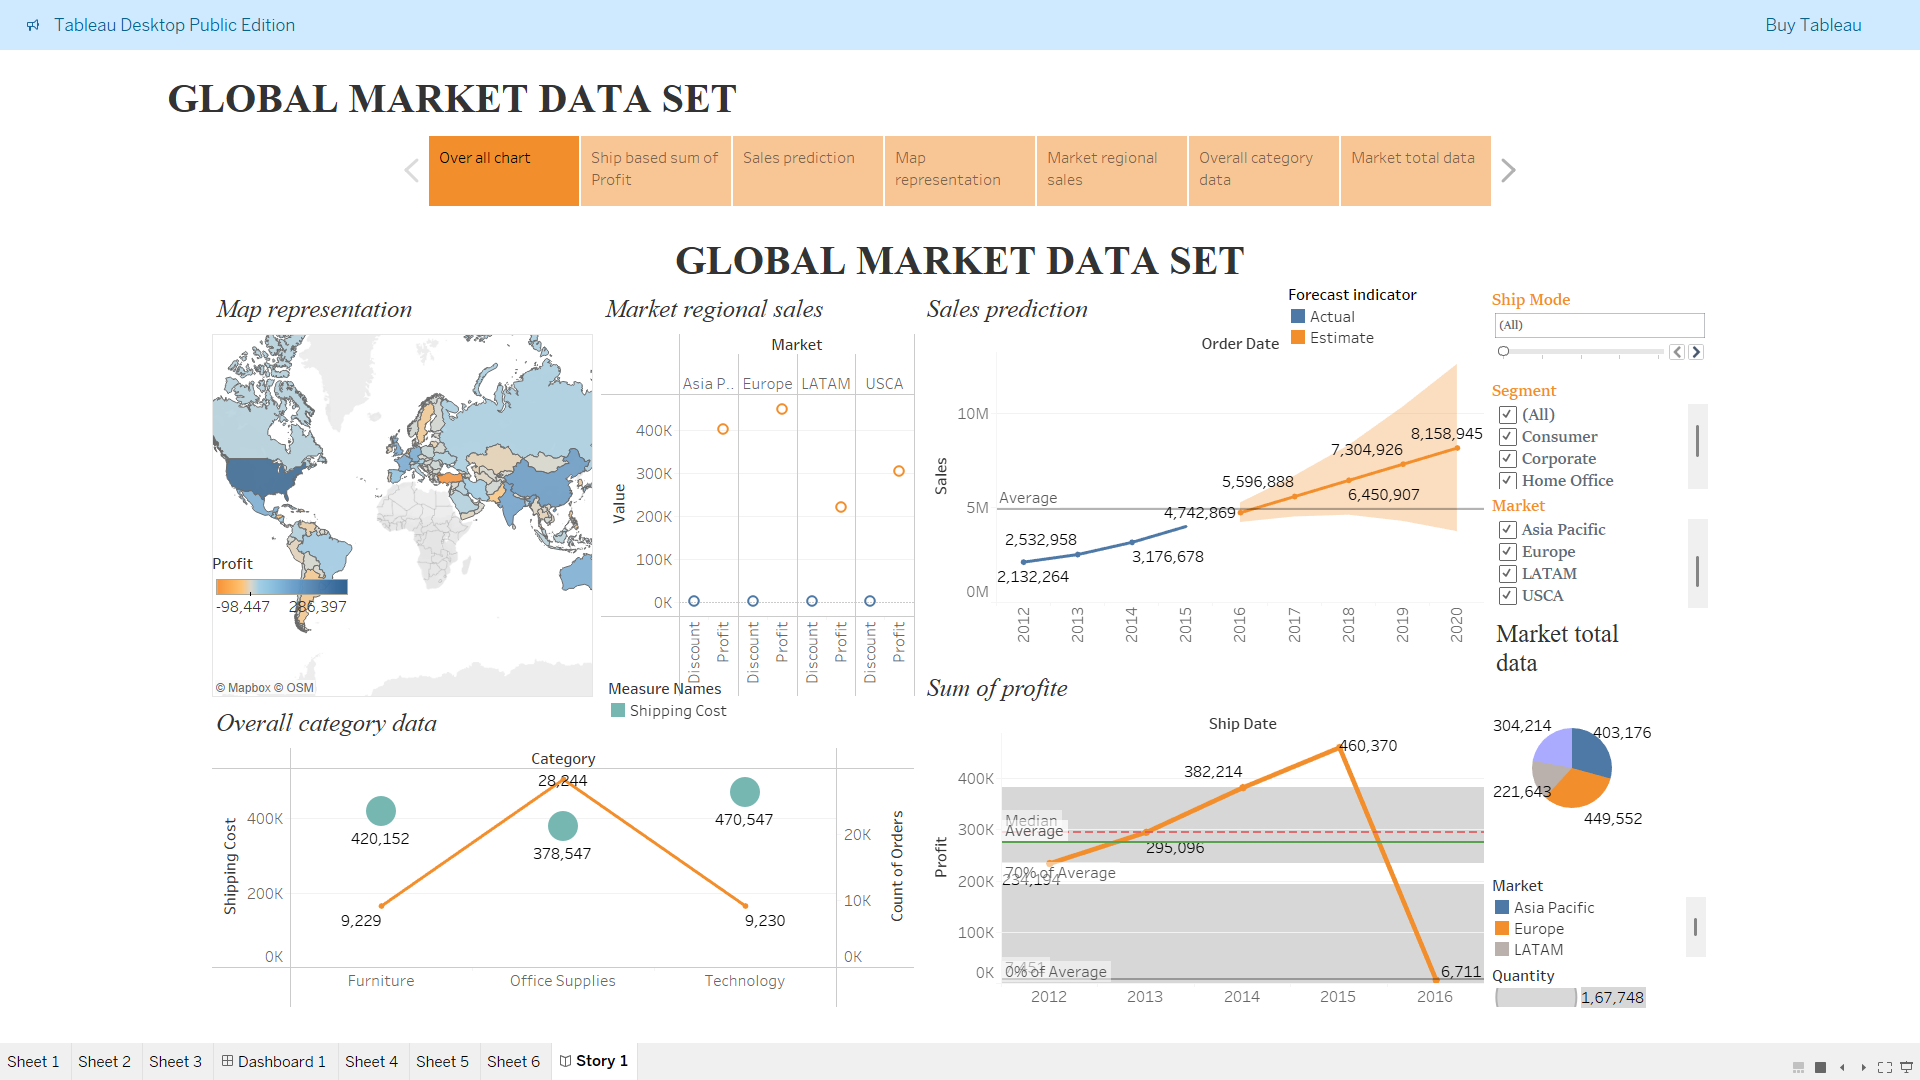

Layout of this report page (visuals, bound fields, positions):
{"tool":"tableau","page":{"name":"Dashboard 1","canvas":[1000,1000],"units":"permille","ordinal":0},"visuals":[{"type":"title","box":[5.3,10,989.5,66.1]},{"type":"legend","title":"Sheet 2","param":"[federated.1nj6qd210zfpyo1dzl5g90oos3fo].[none:Forecast Indicator:nk]","box":[715.8,73.6,88.8,89.8]},{"type":"worksheet","title":"Sheet 3","mark":"Automatic","box":[5.3,76.1,255.6,522.4]},{"type":"worksheet","title":"Sheet 4","mark":"Shape","cols":["Market"],"box":[260.9,76.1,212.2,522.4]},{"type":"worksheet","title":"Sheet 2","mark":"Automatic","rows":["Sales"],"cols":["Order Date"],"box":[473,76.1,374.3,477.6]},{"type":"filter","title":"Sheet 1","param":"[federated.1nj6qd210zfpyo1dzl5g90oos3fo].[none:Ship Mode:nk]","box":[847.4,76.1,147.4,113.5]},{"type":"filter","title":"Sheet 1","param":"[federated.1nj6qd210zfpyo1dzl5g90oos3fo].[none:Segment:nk]","box":[847.4,189.5,147.4,143.4]},{"type":"filter","title":"Sheet 1","param":"[federated.1nj6qd210zfpyo1dzl5g90oos3fo].[none:Market:nk]","box":[847.4,332.9,147.4,148.4]},{"type":"legend","title":"Sheet 3","param":"[federated.1nj6qd210zfpyo1dzl5g90oos3fo].[sum:Profit:qk]","box":[7.9,411.5,92.1,109.7]},{"type":"worksheet","title":"Sheet 6","mark":"Pie","box":[847.4,481.3,147.4,322.9]},{"type":"worksheet","title":"Sheet 1","mark":"Automatic","rows":["Profit"],"cols":["Ship Date"],"box":[473,553.6,374.3,436.4]},{"type":"legend","title":"Sheet 5","param":"[federated.1nj6qd210zfpyo1dzl5g90oos3fo].[:Measure Names]","box":[268.4,569.8,92.1,53.6]},{"type":"worksheet","title":"Sheet 5","mark":"Automatic","rows":["Shipping Cost","Orders_3DD3943F20C242CB870DA2F6CCF628AD"],"cols":["Category"],"box":[5.3,598.5,467.8,391.5]},{"type":"legend","title":"Sheet 6","param":"[federated.1nj6qd210zfpyo1dzl5g90oos3fo].[none:Market:nk]","box":[847.4,804.3,147.4,122.2]},{"type":"legend","title":"Sheet 6","param":"[federated.1nj6qd210zfpyo1dzl5g90oos3fo].[sum:Quantity:qk]","box":[847.4,926.4,147.4,63.6]}]}

Visuals, with their boxes on the dashboard's canvas, which has no fixed pixel size, in thousandths of its width and height (x1, y1, x2, y2). These are canvas units, not pixel positions in the 1920x1080 screenshot, which may show the page scaled, cropped or inside an application window:
title: {"x1": 5, "y1": 10, "x2": 995, "y2": 76}
"Sheet 2" legend: {"x1": 716, "y1": 74, "x2": 805, "y2": 163}
"Sheet 3" worksheet: {"x1": 5, "y1": 76, "x2": 261, "y2": 598}
"Sheet 4" worksheet (Shape marks): {"x1": 261, "y1": 76, "x2": 473, "y2": 598}
"Sheet 2" worksheet: {"x1": 473, "y1": 76, "x2": 847, "y2": 554}
"Sheet 1" filter: {"x1": 847, "y1": 76, "x2": 995, "y2": 190}
"Sheet 1" filter: {"x1": 847, "y1": 190, "x2": 995, "y2": 333}
"Sheet 1" filter: {"x1": 847, "y1": 333, "x2": 995, "y2": 481}
"Sheet 3" legend: {"x1": 8, "y1": 412, "x2": 100, "y2": 521}
"Sheet 6" worksheet (Pie marks): {"x1": 847, "y1": 481, "x2": 995, "y2": 804}
"Sheet 1" worksheet: {"x1": 473, "y1": 554, "x2": 847, "y2": 990}
"Sheet 5" legend: {"x1": 268, "y1": 570, "x2": 360, "y2": 623}
"Sheet 5" worksheet: {"x1": 5, "y1": 598, "x2": 473, "y2": 990}
"Sheet 6" legend: {"x1": 847, "y1": 804, "x2": 995, "y2": 926}
"Sheet 6" legend: {"x1": 847, "y1": 926, "x2": 995, "y2": 990}
